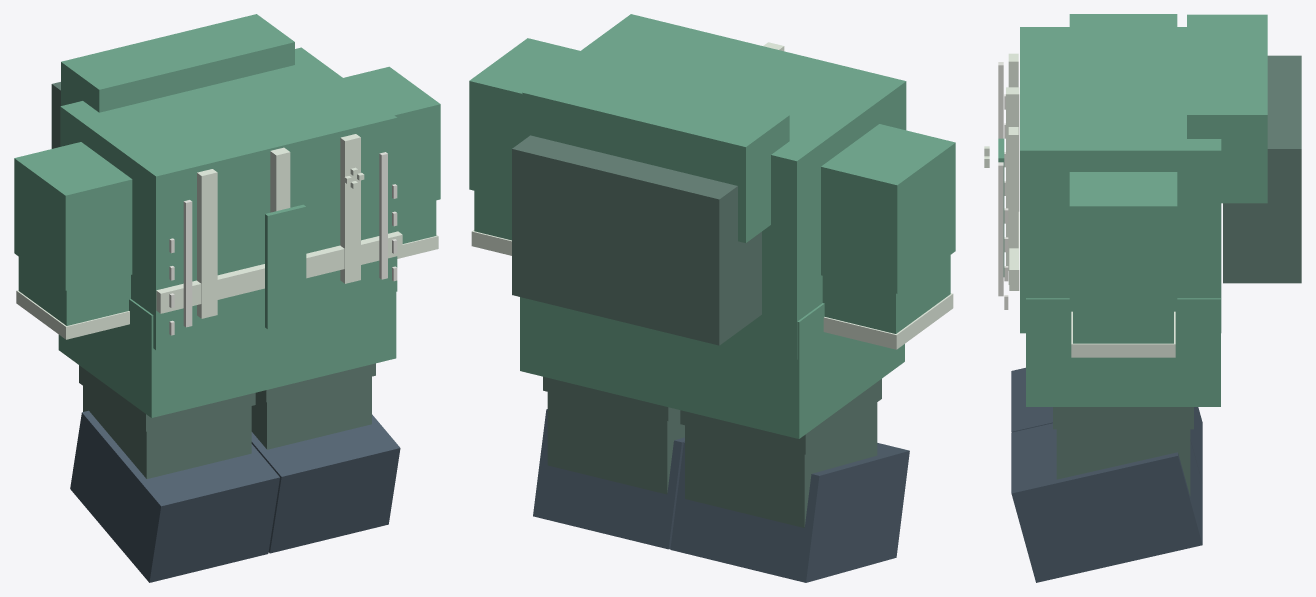
File: raincoat-emerald.glb
3 views of the same model, side by side, from view 1: azimuth 30°, elevation 25°; view 2: azimuth 150°, elevation 25°; view 3: azimuth 270°, elevation 25° (orthographic). The views are drawn at different scales.
Parts seen in each view (by area): view 1: jacket, coat-tails, shoe-Right, upper-sleeve-Right, rain-hood, shoe-Left, lower-trouser-Right, upper-sleeve-Left, lower-trouser-Left, design-raincoat-storm-flap, lower-sleeve-Right, reflective-band (+11 smaller); view 2: backpack, jacket, coat-tails, rain-hood, upper-sleeve-Right, shoe-Right, lower-trouser-Right, lower-trouser-Left, shoe-Left, upper-sleeve-Left, lower-sleeve-Right, trouser-Right (+4 smaller); view 3: jacket, shoe-Left, coat-tails, upper-sleeve-Left, rain-hood, backpack, lower-trouser-Left, lower-sleeve-Left, trouser-Left, shoe-Right, cuff-Left, upper-sleeve-Right (+5 smaller).
Boxes of the visible parts, bbox=[...] form: jacket: bbox=[60, 47, 397, 350]; coat-tails: bbox=[58, 292, 396, 417]; shoe-Right: bbox=[70, 410, 279, 582]; upper-sleeve-Right: bbox=[14, 142, 132, 290]; rain-hood: bbox=[61, 14, 294, 112]; shoe-Left: bbox=[251, 414, 400, 553]; lower-trouser-Right: bbox=[83, 386, 251, 478]; upper-sleeve-Left: bbox=[343, 66, 440, 209]; lower-trouser-Left: bbox=[251, 376, 371, 449]; design-raincoat-storm-flap: bbox=[265, 204, 306, 329]; lower-sleeve-Right: bbox=[18, 257, 130, 325]; reflective-band: bbox=[156, 231, 402, 313]; backpack: bbox=[512, 135, 761, 345]; jacket: bbox=[521, 14, 906, 359]; coat-tails: bbox=[520, 297, 904, 438]; rain-hood: bbox=[522, 60, 789, 242]; upper-sleeve-Right: bbox=[821, 124, 955, 293]; shoe-Right: bbox=[670, 442, 909, 582]; lower-trouser-Right: bbox=[685, 402, 877, 527]; lower-trouser-Left: bbox=[547, 392, 684, 494]; shoe-Left: bbox=[533, 409, 684, 549]; upper-sleeve-Left: bbox=[469, 38, 579, 199]; lower-sleeve-Right: bbox=[822, 255, 950, 333]; trouser-Right: bbox=[680, 379, 881, 454]; jacket: bbox=[1020, 27, 1221, 333]; shoe-Left: bbox=[1011, 423, 1202, 582]; coat-tails: bbox=[1026, 298, 1220, 406]; upper-sleeve-Left: bbox=[1069, 172, 1177, 305]; rain-hood: bbox=[1187, 14, 1267, 203]; backpack: bbox=[1223, 55, 1301, 283]; lower-trouser-Left: bbox=[1056, 429, 1190, 495]; lower-sleeve-Left: bbox=[1073, 306, 1173, 343]; trouser-Left: bbox=[1053, 407, 1193, 429]; shoe-Right: bbox=[1011, 367, 1202, 483]; cuff-Left: bbox=[1071, 311, 1175, 357]; upper-sleeve-Right: bbox=[1069, 14, 1177, 26].
Size of the model in its own units: 1.07 by 1.19 by 0.748.
